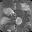people: (3, 7, 15, 16), (0, 17, 12, 26), (16, 17, 22, 26)
